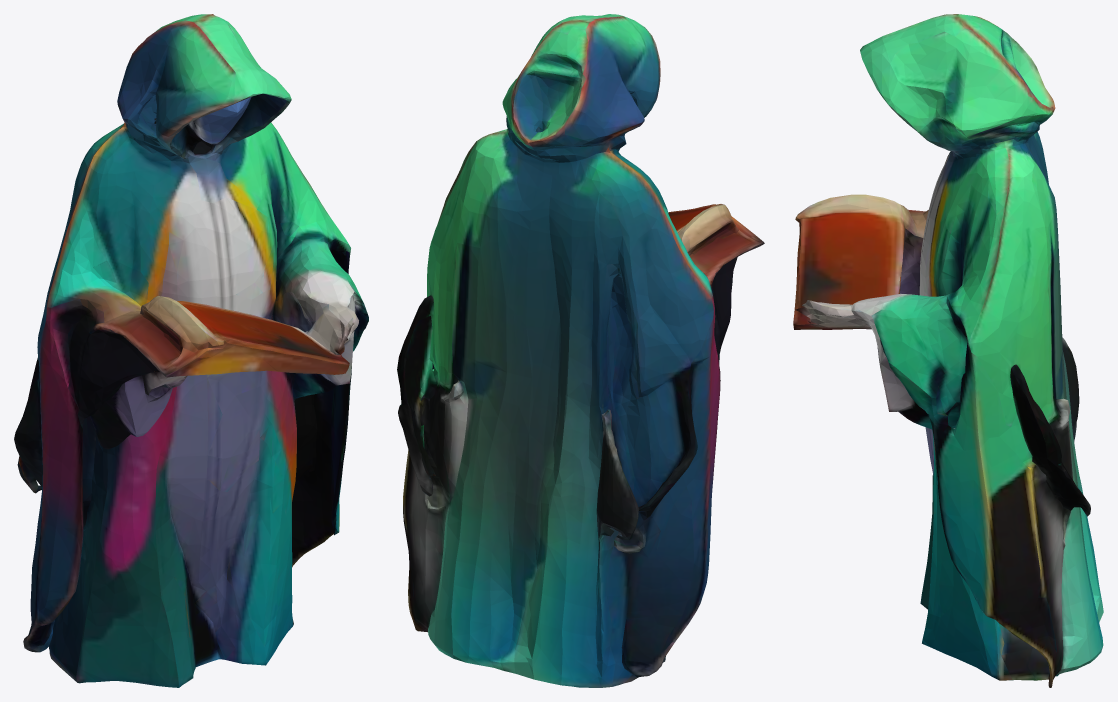
Rendered from anime_future_scholar.glb.
3 views of the same model, side by side, from view 1: azimuth 30°, elevation 25°; view 2: azimuth 150°, elevation 25°; view 3: azimuth 270°, elevation 25° (orthographic). The views are drawn at different scales.
Parts seen in each view (by area): view 1: geometry_0; view 2: geometry_0; view 3: geometry_0.
Part boxes in pixels (x1,y1,x2,y2): geometry_0: (14, 14, 368, 687); geometry_0: (397, 14, 764, 687); geometry_0: (793, 14, 1103, 687).
Bounding box in the file's own units: 0.5033 × 0.9959 × 0.458.
Materials: 1 (1 with a texture image).
